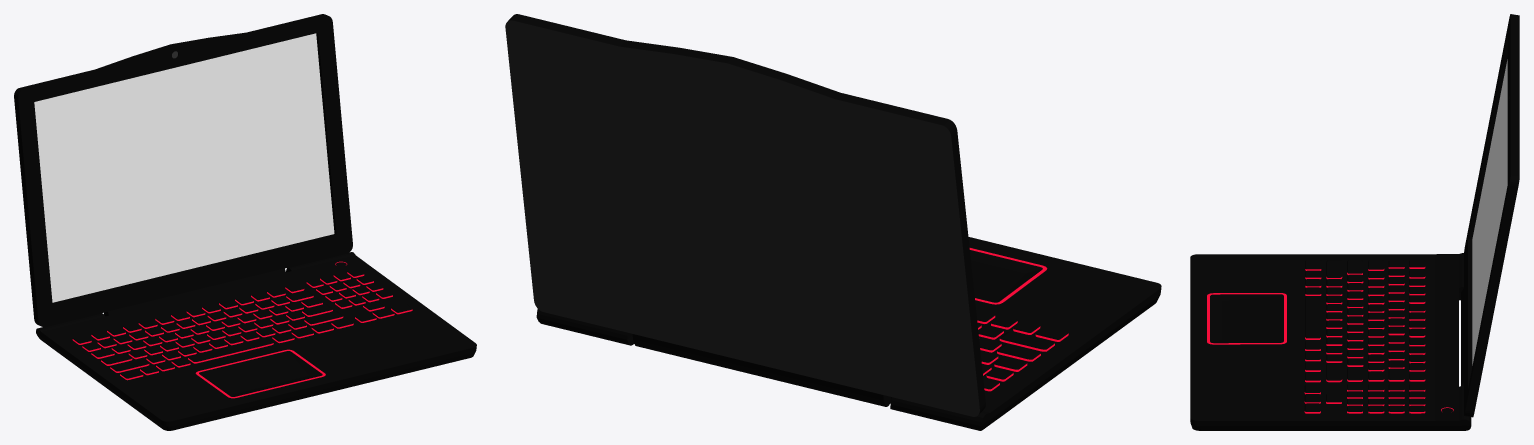
The model's file is Laptop.glb.
The picture shows the model from 3 angles, left to right: view 1: azimuth 30°, elevation 25°; view 2: azimuth 150°, elevation 25°; view 3: azimuth 270°, elevation 25°; orthographic projection. The views are drawn at different scales.
Visible parts, largest first — view 1: Cube.001, Cube; view 2: Cube.001, Cube; view 3: Cube, Cube.001.
Part boxes in pixels (<box>): Cube.001: <box>14,14,352,326</box>; Cube: <box>36,252,476,430</box>; Cube.001: <box>505,14,985,416</box>; Cube: <box>536,237,1161,430</box>; Cube: <box>1190,253,1471,430</box>; Cube.001: <box>1461,14,1519,417</box>.
Size of what is drawn, in the model's own units: 2.93 by 2.14 by 2.45.
